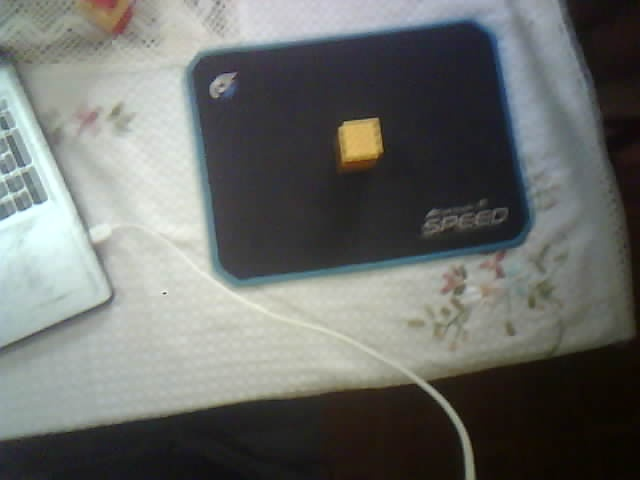lego: (334, 116, 385, 174), (76, 1, 136, 35)
